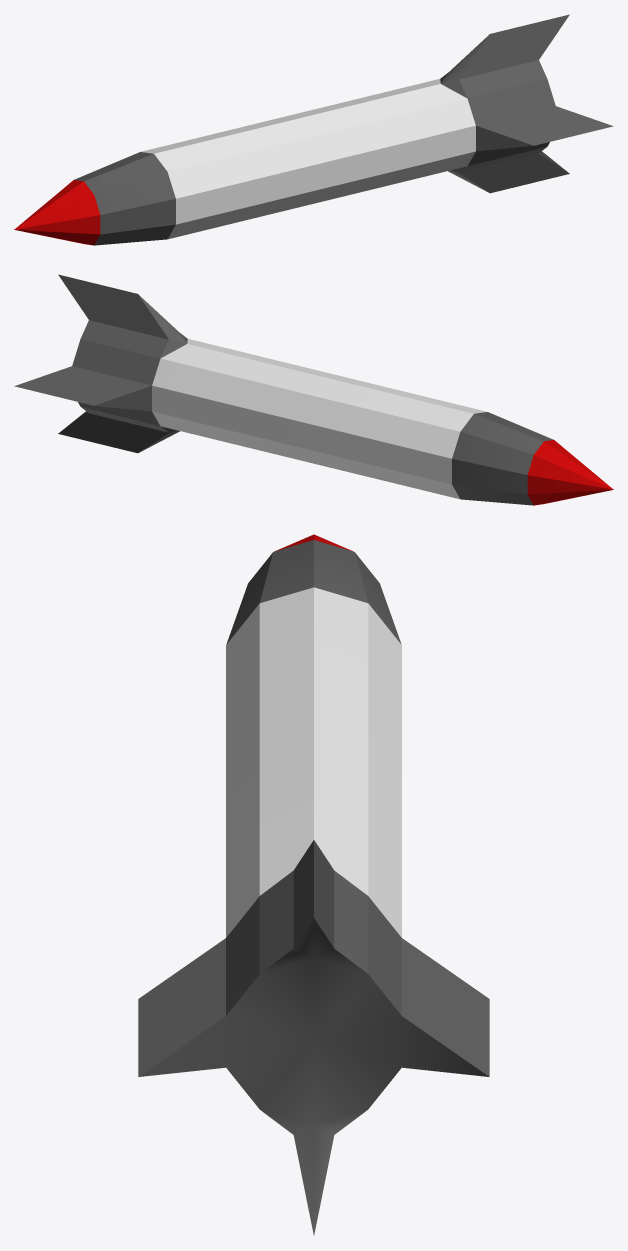
The model's file is Rocket.fbx.
3 renders of one model, top to bottom at view 1: azimuth 30°, elevation 25°; view 2: azimuth 150°, elevation 25°; view 3: azimuth 270°, elevation 25°, orthographic. The views are drawn at different scales.
Visible parts, largest first — view 1: pCylinder2; view 2: pCylinder2; view 3: pCylinder2.
Part boxes in pixels (left/top/right/bottom): pCylinder2: left=14, top=14, right=613, bottom=245; pCylinder2: left=14, top=274, right=613, bottom=505; pCylinder2: left=138, top=534, right=489, bottom=1235.
Bounding box in the file's own units: 13.9 × 3.81 × 3.81.
